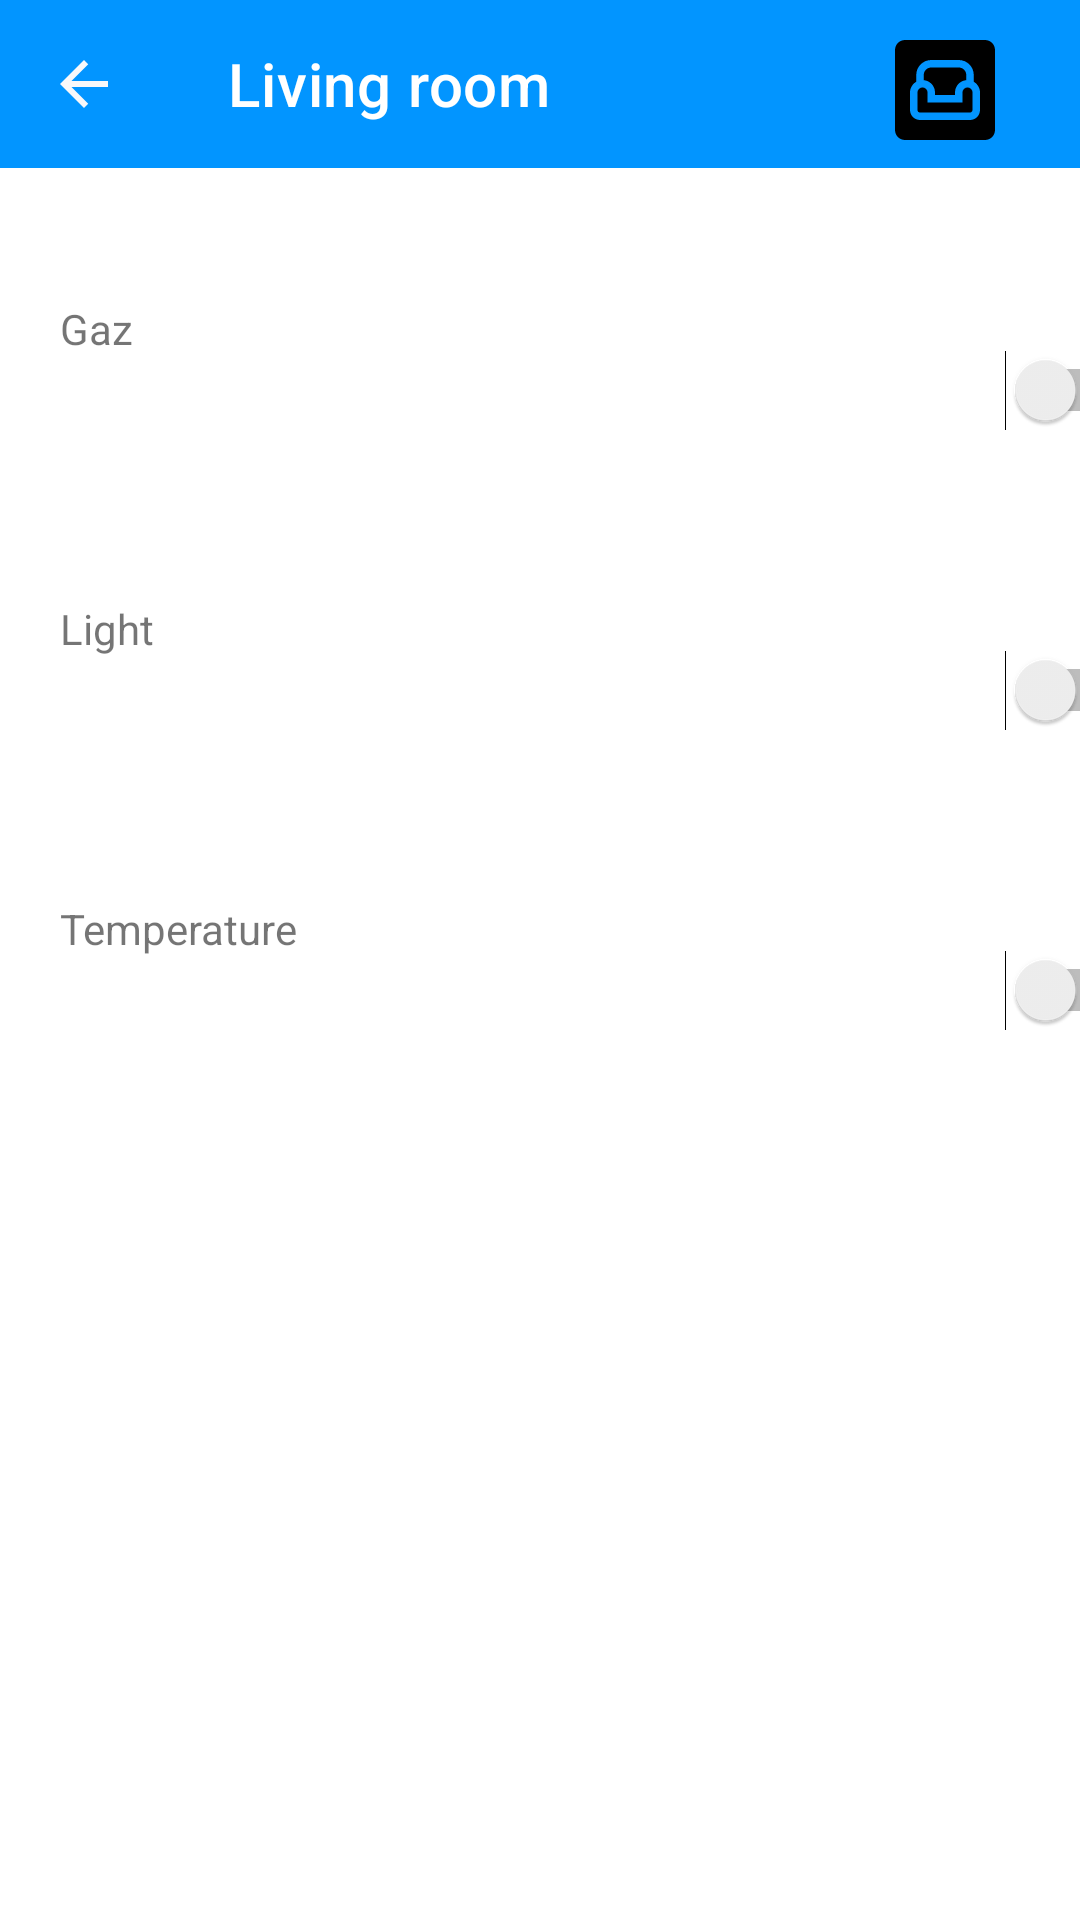

Where to tap for icons on this 1080w x 1920h app screen, as [x,y]:
living: [945,90]
